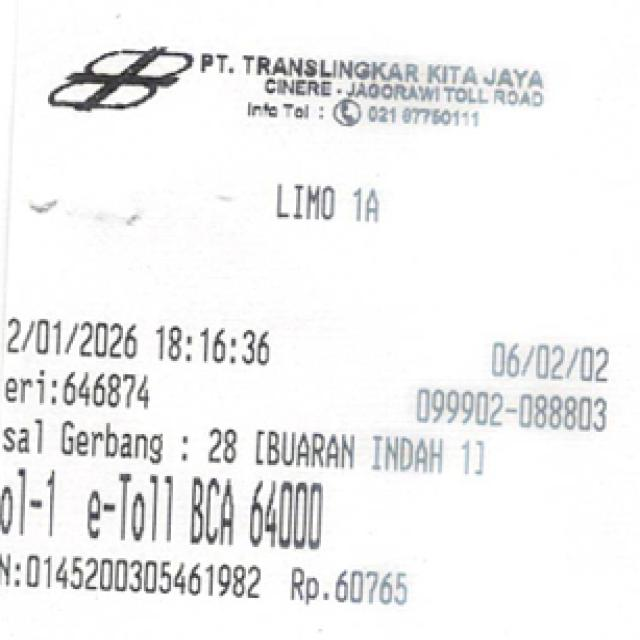date: (5, 307, 279, 376)
store: (179, 50, 565, 90)
total: (243, 476, 349, 560)
